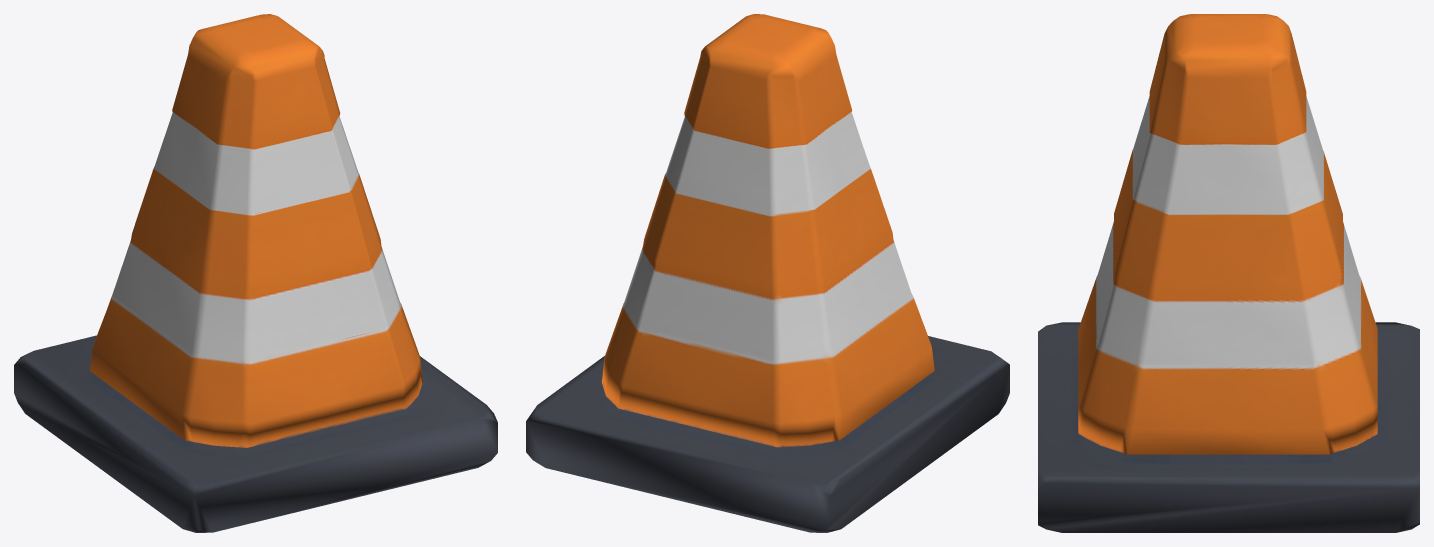
The picture shows the model from 3 angles, left to right: view 1: azimuth 30°, elevation 25°; view 2: azimuth 150°, elevation 25°; view 3: azimuth 270°, elevation 25°; orthographic projection. The views are drawn at different scales.
Visible parts, largest first — view 1: tripo_node_406ebebe-07f2-4579-bdb5-3020de8eac11; view 2: tripo_node_406ebebe-07f2-4579-bdb5-3020de8eac11; view 3: tripo_node_406ebebe-07f2-4579-bdb5-3020de8eac11.
Part boxes in pixels (bbox=[...]): tripo_node_406ebebe-07f2-4579-bdb5-3020de8eac11: bbox=[14, 14, 497, 532]; tripo_node_406ebebe-07f2-4579-bdb5-3020de8eac11: bbox=[526, 14, 1009, 532]; tripo_node_406ebebe-07f2-4579-bdb5-3020de8eac11: bbox=[1038, 14, 1419, 532].
Bounding box in the file's own units: 0.7949 × 0.998 × 0.8145.
1 material, 1 textured.
